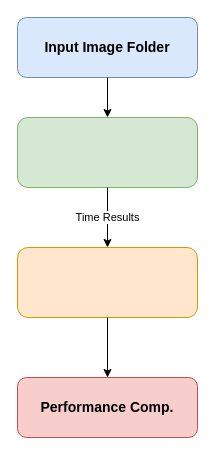
Image size: 215x455. Some labels were removed from this diagram. The centre of each missing label's shape, as x and y in pixels:
Parallel Module (Multiple processes): pixel 107 282
Sequential Module (Process images one): pixel 107 152
